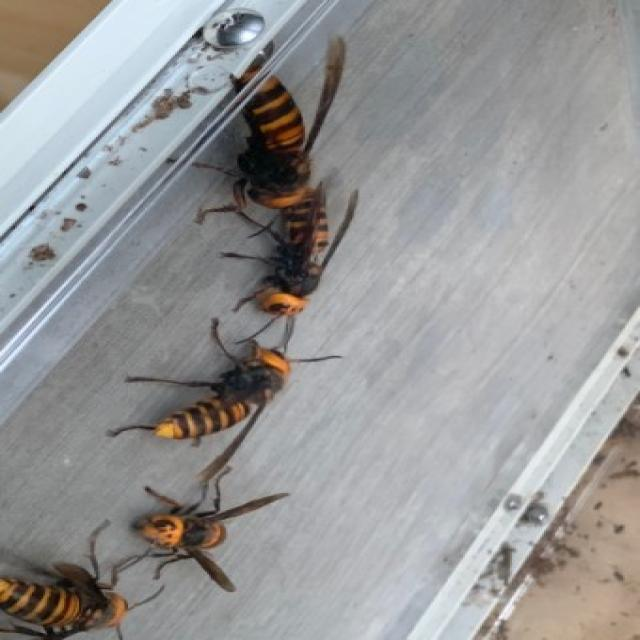Wasp: (210, 43, 338, 211), (115, 339, 312, 442), (118, 483, 288, 589), (2, 563, 133, 638), (249, 218, 350, 314)
